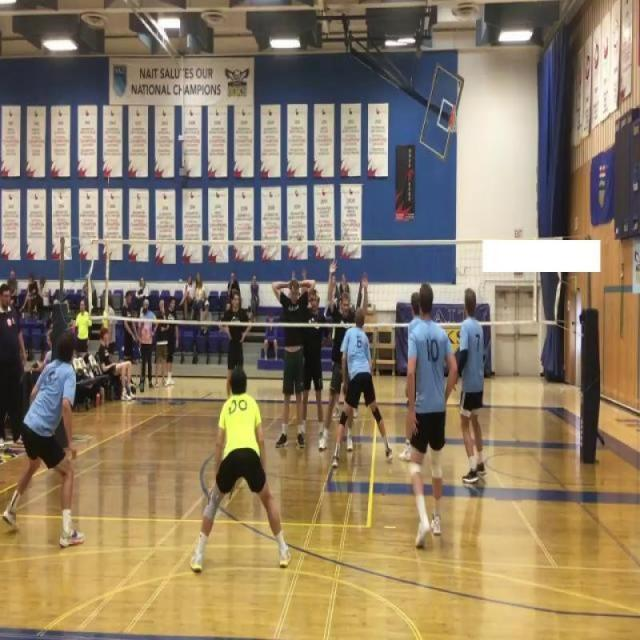volleyball: (296, 230, 303, 241)
